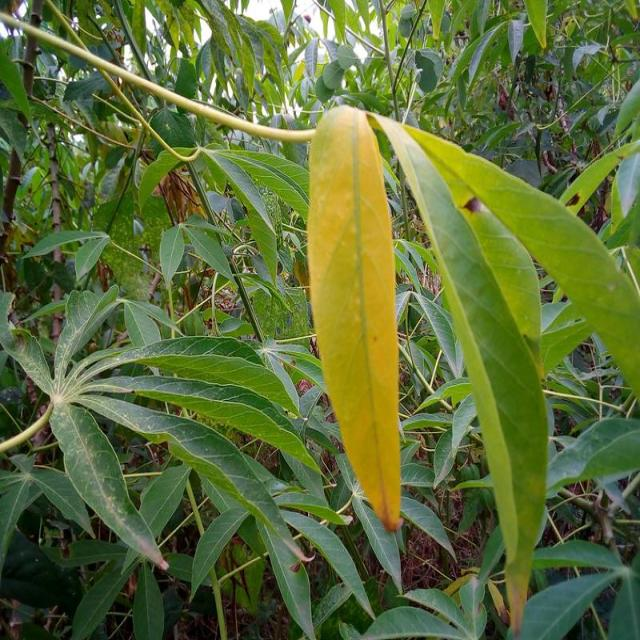cassava leaf: (364, 110, 550, 636), (305, 102, 402, 532)
